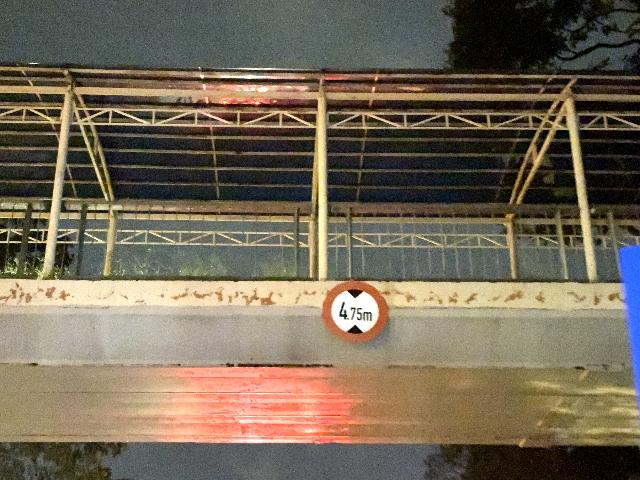han-che-chieu-cao: (322, 281, 388, 342)
